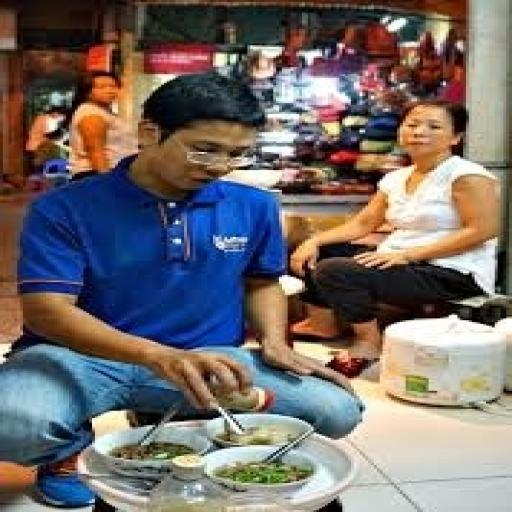eating: (3, 70, 368, 506)
